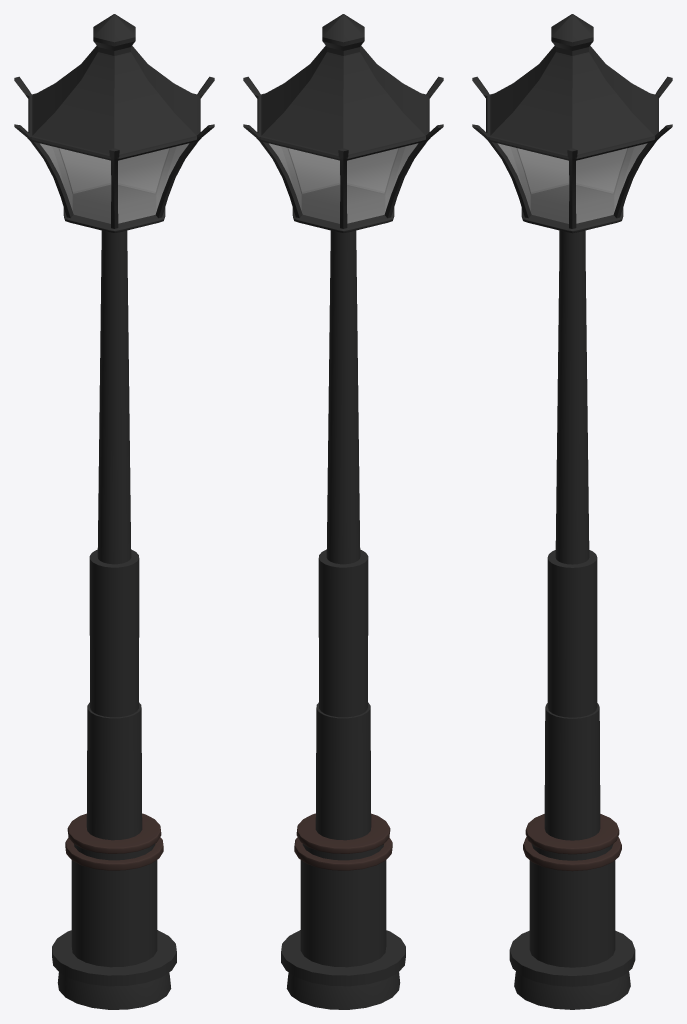
Rendered from road_light.fbx.
The picture shows the model from 3 angles, left to right: view 1: azimuth 30°, elevation 25°; view 2: azimuth 150°, elevation 25°; view 3: azimuth 270°, elevation 25°; orthographic projection.
Visible parts, largest first — view 1: pCylinder5; view 2: pCylinder5; view 3: pCylinder5.
Part boxes in pixels (<box>): pCylinder5: <box>14,14,214,1009</box>; pCylinder5: <box>243,14,443,1009</box>; pCylinder5: <box>472,14,672,1009</box>.
Bounding box in the file's own units: 7.9 × 36.55 × 6.84.
